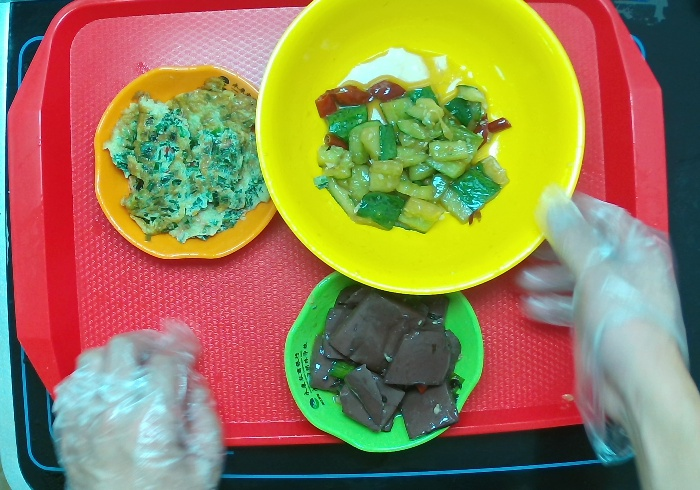YKMZ-Huang_Se_Tang_Wan: (246, 1, 597, 301)
YKMZ-Ju_Se_Ao_Bian_Wan: (88, 61, 280, 262)
YKMZ-Lv_Se_Ao_Bian_Wan: (280, 266, 489, 457)
